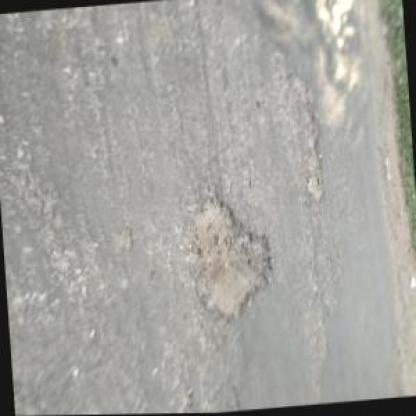pothole: (182, 184, 277, 324), (301, 107, 327, 208)
